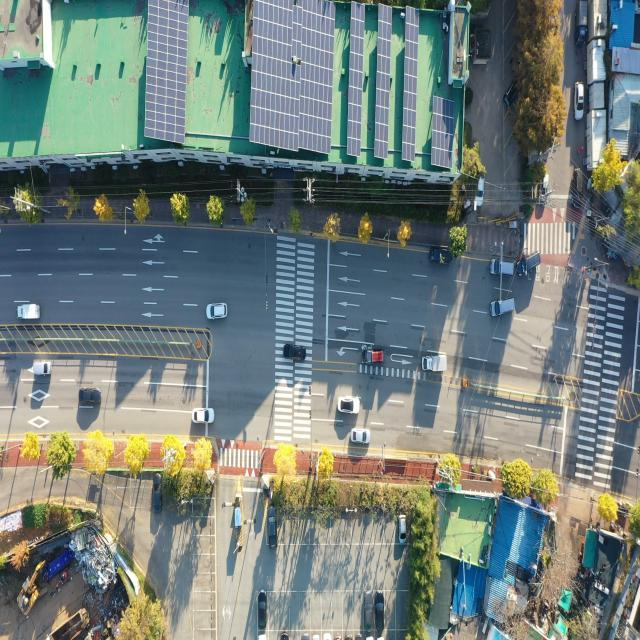car: (502, 74, 522, 110), (515, 252, 542, 278), (571, 166, 583, 210), (490, 256, 514, 276), (266, 506, 278, 544), (475, 171, 486, 209), (152, 471, 162, 512), (364, 591, 374, 631), (207, 303, 228, 321), (339, 396, 361, 413), (375, 590, 384, 630), (540, 170, 550, 206), (194, 408, 215, 425), (283, 345, 304, 362), (258, 591, 267, 628), (79, 388, 101, 403), (351, 428, 371, 444), (575, 84, 583, 121), (33, 359, 51, 375), (398, 515, 407, 544)
small_truck: (575, 0, 589, 46), (420, 351, 448, 373), (362, 346, 386, 369), (490, 296, 516, 316), (16, 302, 41, 322), (430, 247, 453, 265)
